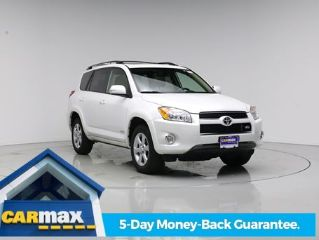Toyota RAV-4: (66, 59, 265, 176)
